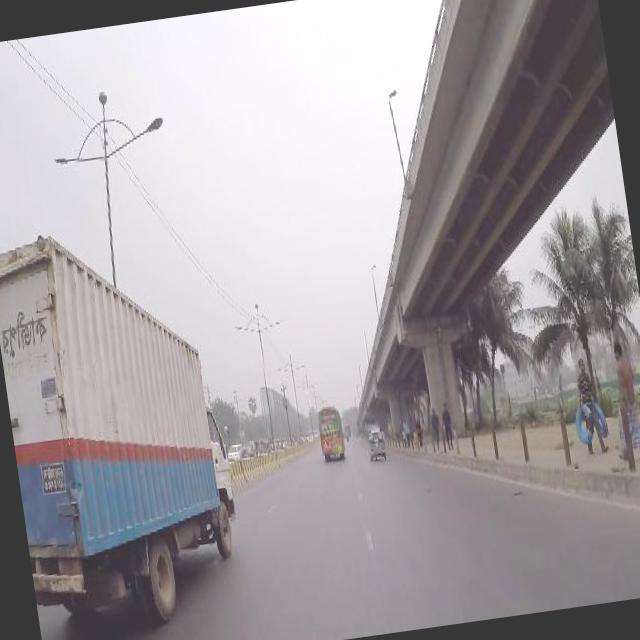bus: (316, 400, 348, 461), (344, 424, 354, 438)
motorcycle: (367, 420, 389, 460)
truck: (0, 211, 257, 640), (228, 440, 244, 460)
